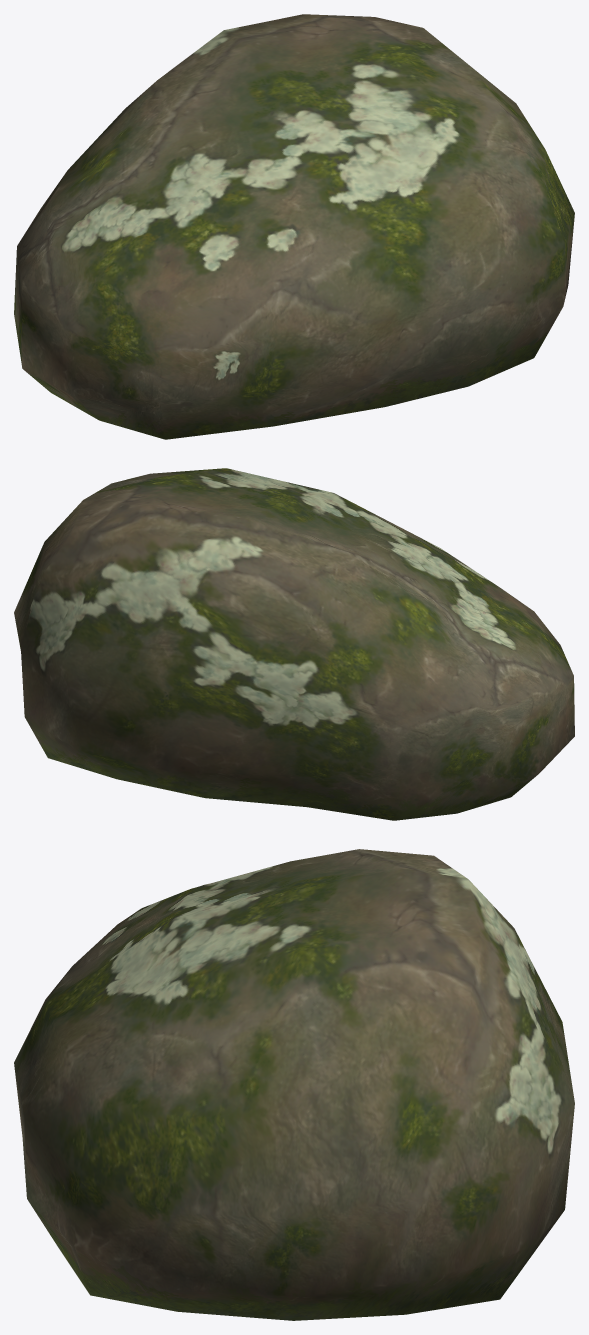
Rendered from rock_Medium_01.FBX.
3 views of the same model, one above another, from view 1: azimuth 30°, elevation 25°; view 2: azimuth 150°, elevation 25°; view 3: azimuth 270°, elevation 25° (orthographic). The views are drawn at different scales.
Parts seen in each view (by area): view 1: rock_Medium_noBottom; view 2: rock_Medium_noBottom; view 3: rock_Medium_noBottom.
Part boxes in pixels (x1=…): rock_Medium_noBottom: x1=14, y1=14, x2=574, y2=439; rock_Medium_noBottom: x1=14, y1=468, x2=574, y2=820; rock_Medium_noBottom: x1=14, y1=849, x2=574, y2=1320.
Size of the model in its own units: 68.26 by 32.67 by 50.82.
